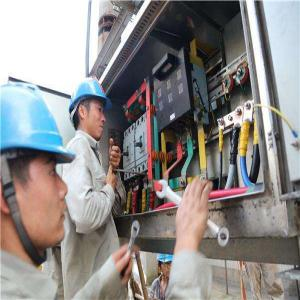blue: (5, 83, 69, 255), (70, 79, 110, 142)
